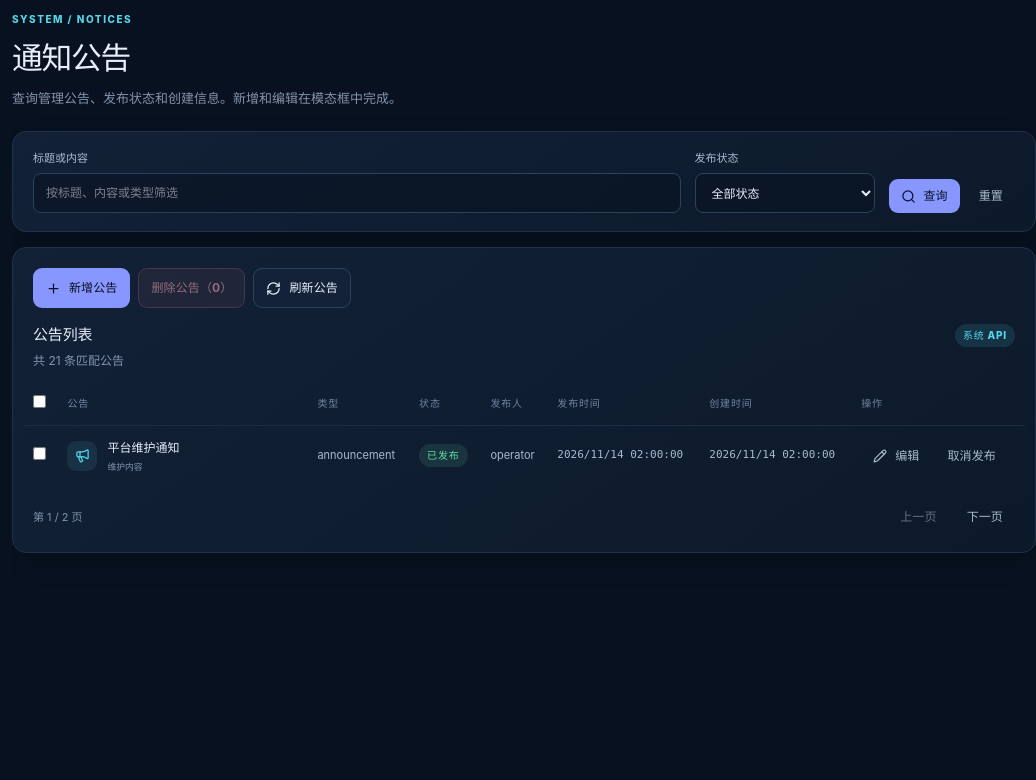
Test: NoticesPage › 按服务端 total 翻页并保存筛选条件到 URL
The image size is (1036, 780).
Expected: the text "平台维护通知" is shown, [107, 439, 179, 457]
Expected: the text "第 1 / 2 页" is shown, [33, 508, 82, 525]
Click the button "下一页" at (985, 517), box [955, 500, 1015, 534]
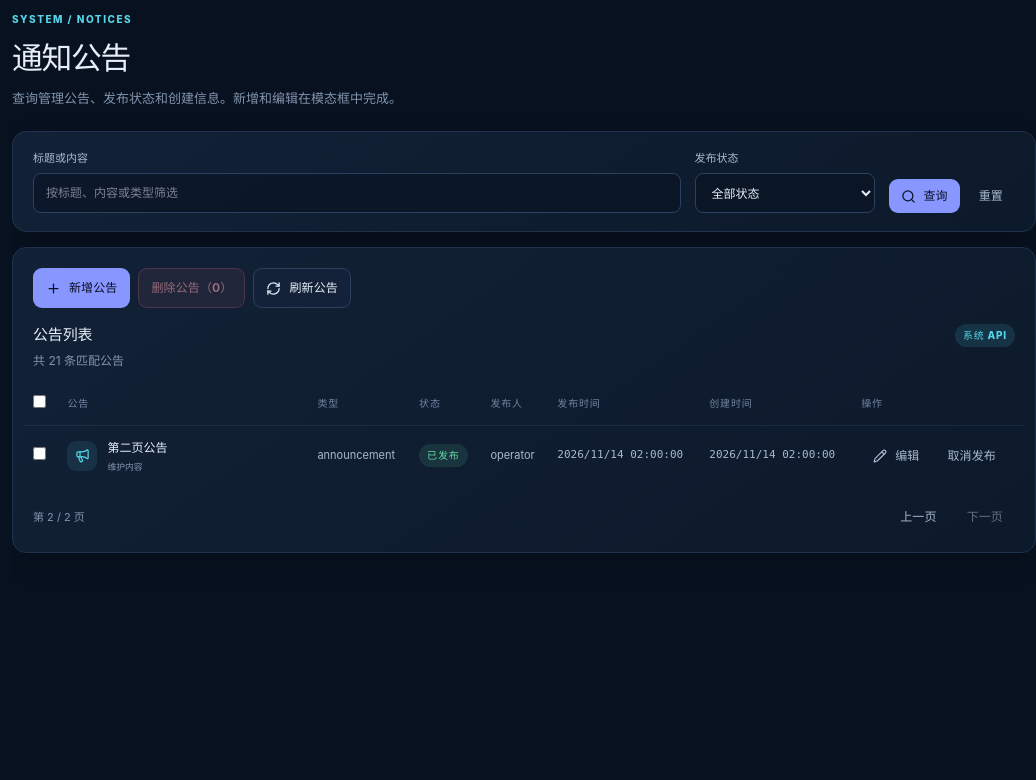
Expected: the text "第二页公告" is shown, [107, 439, 167, 457]
